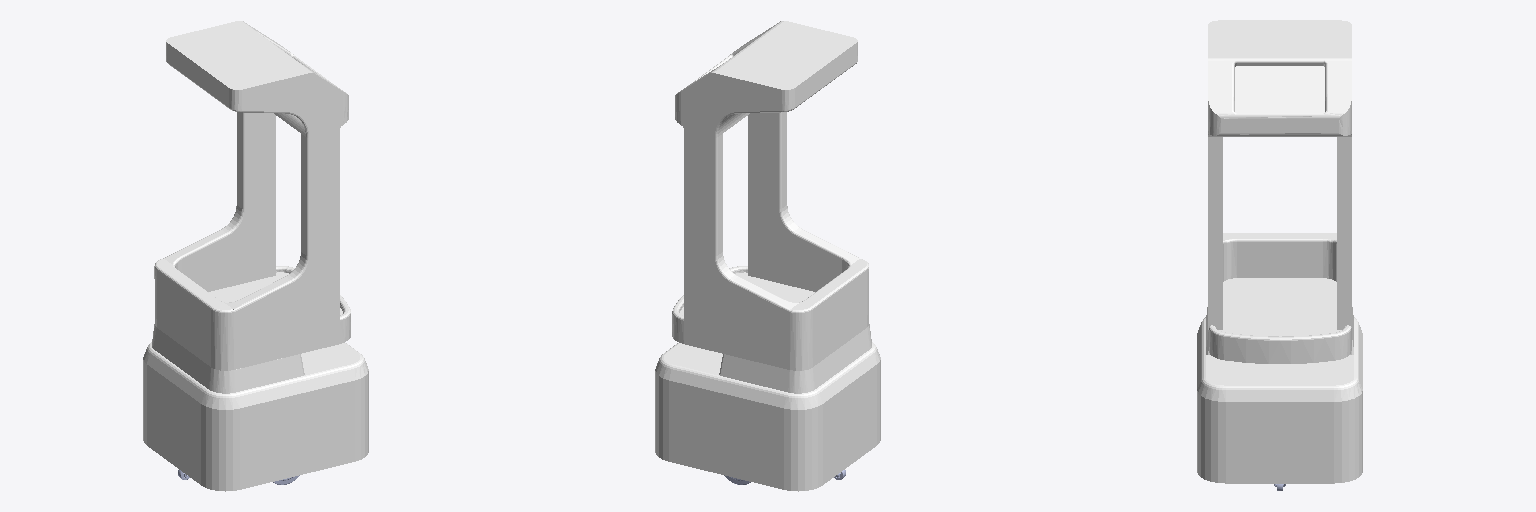
URDF robot description (robot):
<?xml version="1.0" encoding="utf-8"?>
<!-- This URDF was automatically created by SolidWorks to URDF Exporter! Originally created by [author] ([email redacted]) 
     Commit Version: 1.6.0-4-g7f85cfe  Build Version: 1.6.7995.38578
     For more information, please see http://wiki.ros.org/sw_urdf_exporter -->
<robot
  name="robot">
  <link
    name="base_footprint">
    <inertial>
      <origin
        xyz="1.11022302462516E-16 0.0070000000000008 0.0319508475374561"
        rpy="0 0 0" />
      <mass
        value="2.15259467105847" />
      <inertia
        ixx="0.0223312880118147"
        ixy="9.1104730977436E-19"
        ixz="3.38163277637418E-19"
        iyy="0.0348905190398124"
        iyz="4.27815950044668E-20"
        izz="0.056991657152066" />
    </inertial>
    <visual>
      <origin
        xyz="0 0 0"
        rpy="0 0 0" />
      <geometry>
        <mesh
          filename="package://robot/meshes/base_footprint.STL" />
      </geometry>
      <material
        name="">
        <color
          rgba="1 1 1 1" />
      </material>
    </visual>
    <collision>
      <origin
        xyz="0 0 0"
        rpy="0 0 0" />
      <geometry>
        <mesh
          filename="package://robot/meshes/base_footprint.STL" />
      </geometry>
    </collision>
  </link>
  <link
    name="base_link">
    <inertial>
      <origin
        xyz="-0.00418261227896211 3.71625062053904E-05 0.371051317313453"
        rpy="0 0 0" />
      <mass
        value="31.4198392074961" />
      <inertia
        ixx="0.534738153716668"
        ixy="-7.93744571895288E-05"
        ixz="-0.0005502660745598"
        iyy="0.551360325989251"
        iyz="0.000120146109394871"
        izz="0.689386206408512" />
    </inertial>
    <visual>
      <origin
        xyz="0 0 0"
        rpy="0 0 0" />
      <geometry>
        <mesh
          filename="package://robot/meshes/base_link.STL" />
      </geometry>
      <material
        name="">
        <color
          rgba="1 1 1 1" />
      </material>
    </visual>
    <collision>
      <origin
        xyz="0 0 0"
        rpy="0 0 0" />
      <geometry>
        <mesh
          filename="package://robot/meshes/base_link.STL" />
      </geometry>
    </collision>
  </link>
  <joint
    name="base_joint"
    type="fixed">
    <origin
      xyz="0 0.007 0.033"
      rpy="0 0 0" />
    <parent
      link="base_footprint" />
    <child
      link="base_link" />
    <axis
      xyz="0 0 0" />
    <limit
      lower="-3.14"
      upper="3.14"
      effort="5"
      velocity="10" />
  </joint>
  <link
    name="wheel_left_link">
    <inertial>
      <origin
        xyz="-6.05660623209658E-07 0.0309999309948489 -5.78530730085958E-07"
        rpy="0 0 0" />
      <mass
        value="0.248448764511887" />
      <inertia
        ixx="0.000243103249882426"
        ixy="2.77650542305426E-10"
        ixz="2.46488621954328E-09"
        iyy="0.000389428879628454"
        iyz="2.61001466108513E-10"
        izz="0.000243102824420112" />
    </inertial>
    <visual>
      <origin
        xyz="0 0 0"
        rpy="0 0 0" />
      <geometry>
        <mesh
          filename="package://robot/meshes/wheel_left_link.STL" />
      </geometry>
      <material
        name="">
        <color
          rgba="0.792156862745098 0.819607843137255 0.933333333333333 1" />
      </material>
    </visual>
    <collision>
      <origin
        xyz="0 0 0"
        rpy="0 0 0" />
      <geometry>
        <mesh
          filename="package://robot/meshes/wheel_left_link.STL" />
      </geometry>
    </collision>
  </link>
  <joint
    name="wheel_left_joint"
    type="continuous">
    <origin
      xyz="-0.001 0.077499 0.002"
      rpy="0 0 0" />
    <parent
      link="base_link" />
    <child
      link="wheel_left_link" />
    <axis
      xyz="0 -1 0" />
    <limit
      lower="-3.14"
      upper="3.14"
      effort="5"
      velocity="10" />
  </joint>
  <link
    name="wheel_right_link">
    <inertial>
      <origin
        xyz="-6.0566062326517E-07 -0.0310000690051511 -5.78530730085958E-07"
        rpy="0 0 0" />
      <mass
        value="0.248448764511887" />
      <inertia
        ixx="0.000243103249882427"
        ixy="2.77650542235766E-10"
        ixz="2.46488621953934E-09"
        iyy="0.000389428879628454"
        iyz="2.61001466170067E-10"
        izz="0.000243102824420112" />
    </inertial>
    <visual>
      <origin
        xyz="0 0 0"
        rpy="0 0 0" />
      <geometry>
        <mesh
          filename="package://robot/meshes/wheel_right_link.STL" />
      </geometry>
      <material
        name="">
        <color
          rgba="0.792156862745098 0.819607843137255 0.933333333333333 1" />
      </material>
    </visual>
    <collision>
      <origin
        xyz="0 0 0"
        rpy="0 0 0" />
      <geometry>
        <mesh
          filename="package://robot/meshes/wheel_right_link.STL" />
      </geometry>
    </collision>
  </link>
  <joint
    name="wheel_right_joint"
    type="fixed">
    <origin
      xyz="-0.001 -0.077499 0.002"
      rpy="0 0 0" />
    <parent
      link="base_link" />
    <child
      link="wheel_right_link" />
    <axis
      xyz="0 0 0" />
    <limit
      lower="-3.14"
      upper="3.14"
      effort="5"
      velocity="10" />
  </joint>
  <link
    name="caster_rear_link">
    <inertial>
      <origin
        xyz="0.158941531779673 0.000110261107710521 -0.0270244838022084"
        rpy="0 0 0" />
      <mass
        value="0.0124820530295701" />
      <inertia
        ixx="1.06100619956033E-06"
        ixy="8.12697054265605E-13"
        ixz="-4.08892427198593E-08"
        iyy="1.37227214415967E-06"
        iyz="1.44095123176193E-14"
        izz="1.35727133515575E-06" />
    </inertial>
    <visual>
      <origin
        xyz="0 0 0"
        rpy="0 0 0" />
      <geometry>
        <mesh
          filename="package://robot/meshes/caster_rear_link.STL" />
      </geometry>
      <material
        name="">
        <color
          rgba="0.792156862745098 0.819607843137255 0.933333333333333 1" />
      </material>
    </visual>
    <collision>
      <origin
        xyz="0 0 0"
        rpy="0 0 0" />
      <geometry>
        <mesh
          filename="package://robot/meshes/caster_rear_link.STL" />
      </geometry>
    </collision>
  </link>
  <joint
    name="caster_rear_joint"
    type="fixed">
    <origin
      xyz="0 0 0"
      rpy="0 0 0" />
    <parent
      link="base_link" />
    <child
      link="caster_rear_link" />
    <axis
      xyz="0 0 0" />
    <limit
      lower="-3.14"
      upper="3.14"
      effort="5"
      velocity="10" />
  </joint>
  <link
    name="caster_front_link">
    <inertial>
      <origin
        xyz="-0.169558468220327 0.000110261107711646 -0.0270244838022084"
        rpy="0 0 0" />
      <mass
        value="0.01248205302957" />
      <inertia
        ixx="1.06100619956032E-06"
        ixy="8.12697055359624E-13"
        ixz="-4.08892427198638E-08"
        iyy="1.37227214415966E-06"
        iyz="1.44095117504443E-14"
        izz="1.35727133515574E-06" />
    </inertial>
    <visual>
      <origin
        xyz="0 0 0"
        rpy="0 0 0" />
      <geometry>
        <mesh
          filename="package://robot/meshes/caster_front_link.STL" />
      </geometry>
      <material
        name="">
        <color
          rgba="0.792156862745098 0.819607843137255 0.933333333333333 1" />
      </material>
    </visual>
    <collision>
      <origin
        xyz="0 0 0"
        rpy="0 0 0" />
      <geometry>
        <mesh
          filename="package://robot/meshes/caster_front_link.STL" />
      </geometry>
    </collision>
  </link>
  <joint
    name="caster_front_joint"
    type="fixed">
    <origin
      xyz="0 0 0"
      rpy="0 0 0" />
    <parent
      link="base_link" />
    <child
      link="caster_front_link" />
    <axis
      xyz="0 0 0" />
    <limit
      lower="-3.14"
      upper="3.14"
      effort="5"
      velocity="10" />
  </joint>
</robot>

--- What the picture shows (computed from the rendered views, not written in the file) ---
The picture shows the robot from 3 angles, left to right: view 1: azimuth 30°, elevation 25°; view 2: azimuth 150°, elevation 25°; view 3: azimuth 270°, elevation 25°; orthographic projection.
Robot: robot — 6 links, 5 joints (1 continuous, 4 fixed); root link base_footprint; default pose: every joint at zero.
Visible links, largest first — view 1: base_link, base_footprint; view 2: base_link, base_footprint; view 3: base_link, base_footprint.
Link boxes in pixels (bbox=[...]): base_link: bbox=[143, 21, 368, 482]; base_footprint: bbox=[143, 432, 368, 491]; base_link: bbox=[655, 21, 880, 482]; base_footprint: bbox=[655, 432, 880, 491]; base_link: bbox=[1197, 20, 1362, 474]; base_footprint: bbox=[1197, 464, 1362, 483].
Size in the robot's own frame: 0.4 by 0.35 by 0.958 metres.
6 mesh visuals loaded from 6 distinct referenced files (6 binary STL).